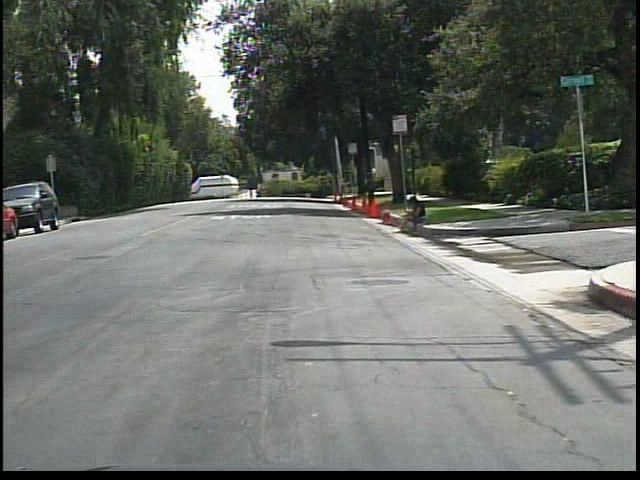person: (394, 191, 432, 238)
